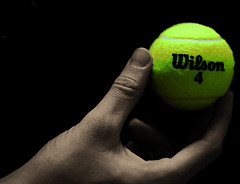tennis ball: (143, 21, 236, 112)
